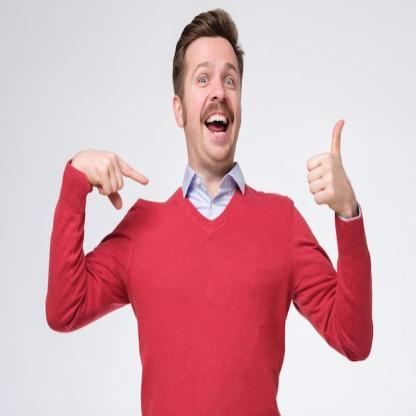thumb_up: (304, 114, 353, 214)
